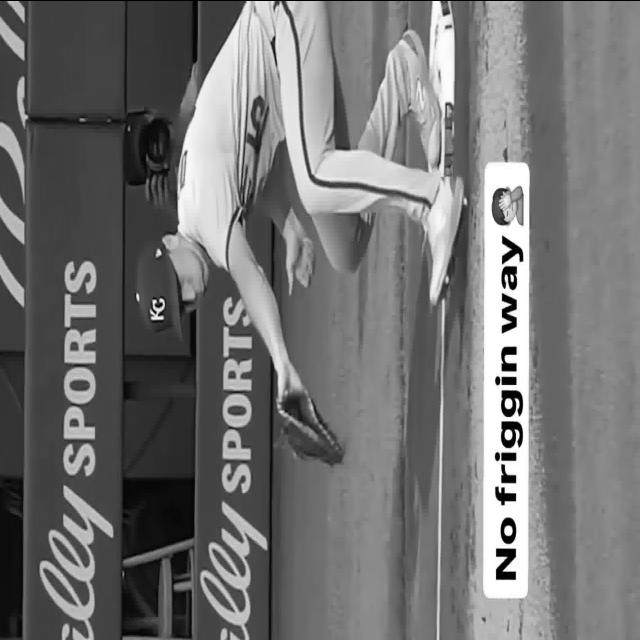base: (429, 0, 455, 175)
baseball_glove: (276, 387, 344, 464)
shoe: (399, 29, 441, 169), (425, 175, 464, 304)
